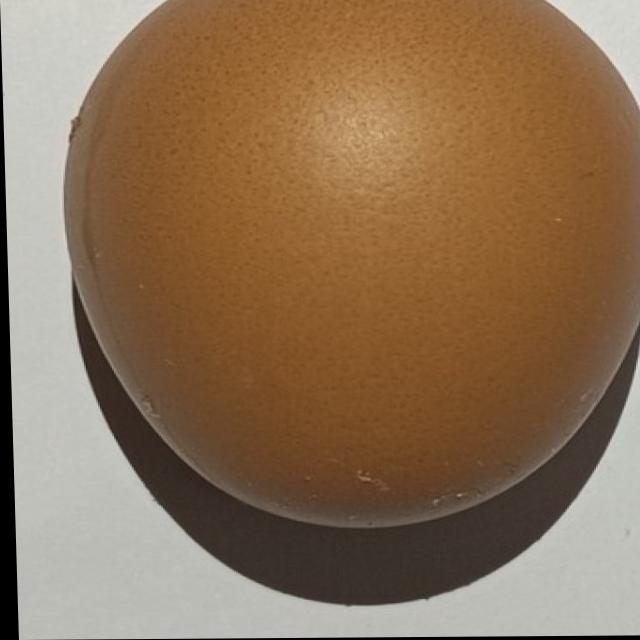fresh: (40, 0, 640, 550)
